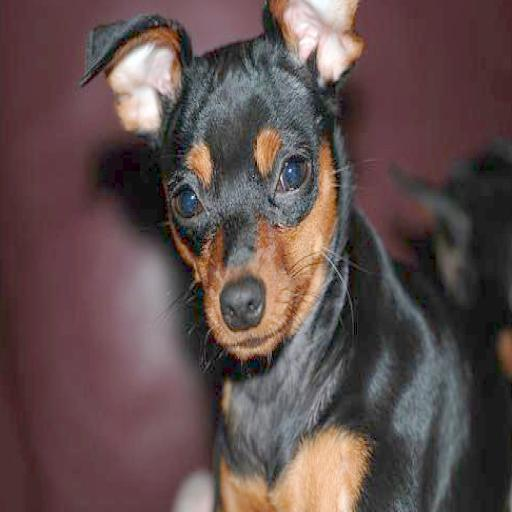dog_face: (87, 2, 346, 354)
